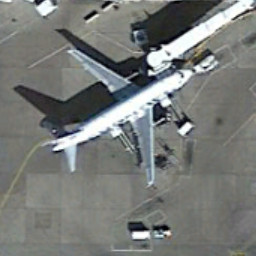Airplane: (33, 37, 200, 192)
